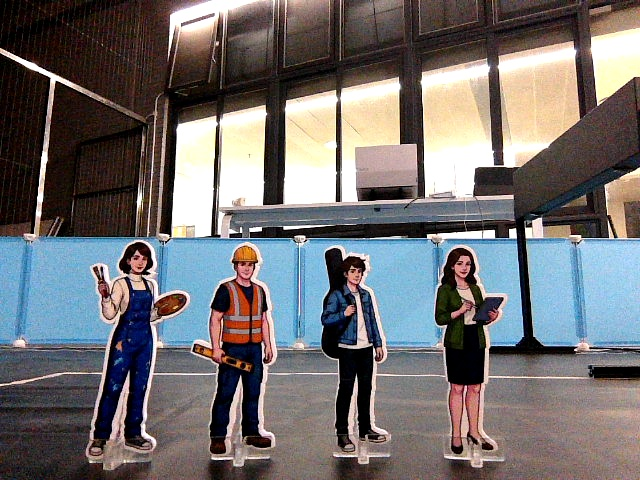community_person: (83, 235, 188, 472), (190, 236, 288, 471), (311, 238, 404, 469), (428, 236, 514, 473)
